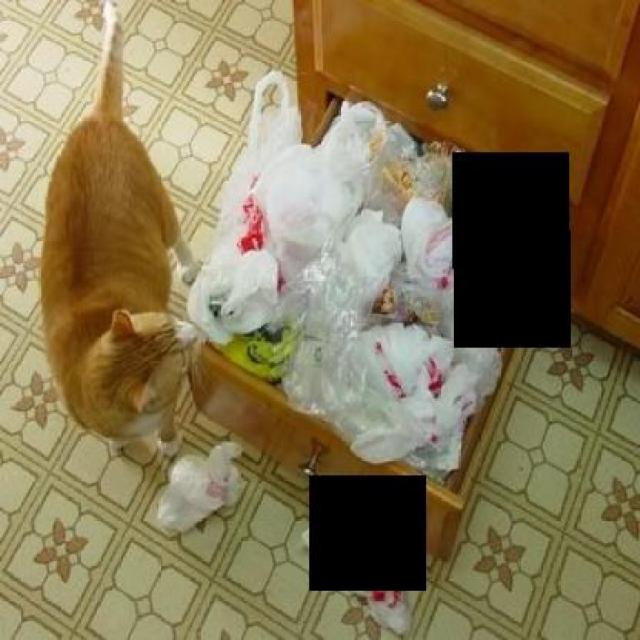plastic bag: (183, 60, 548, 469), (302, 518, 411, 632), (151, 438, 251, 532)
